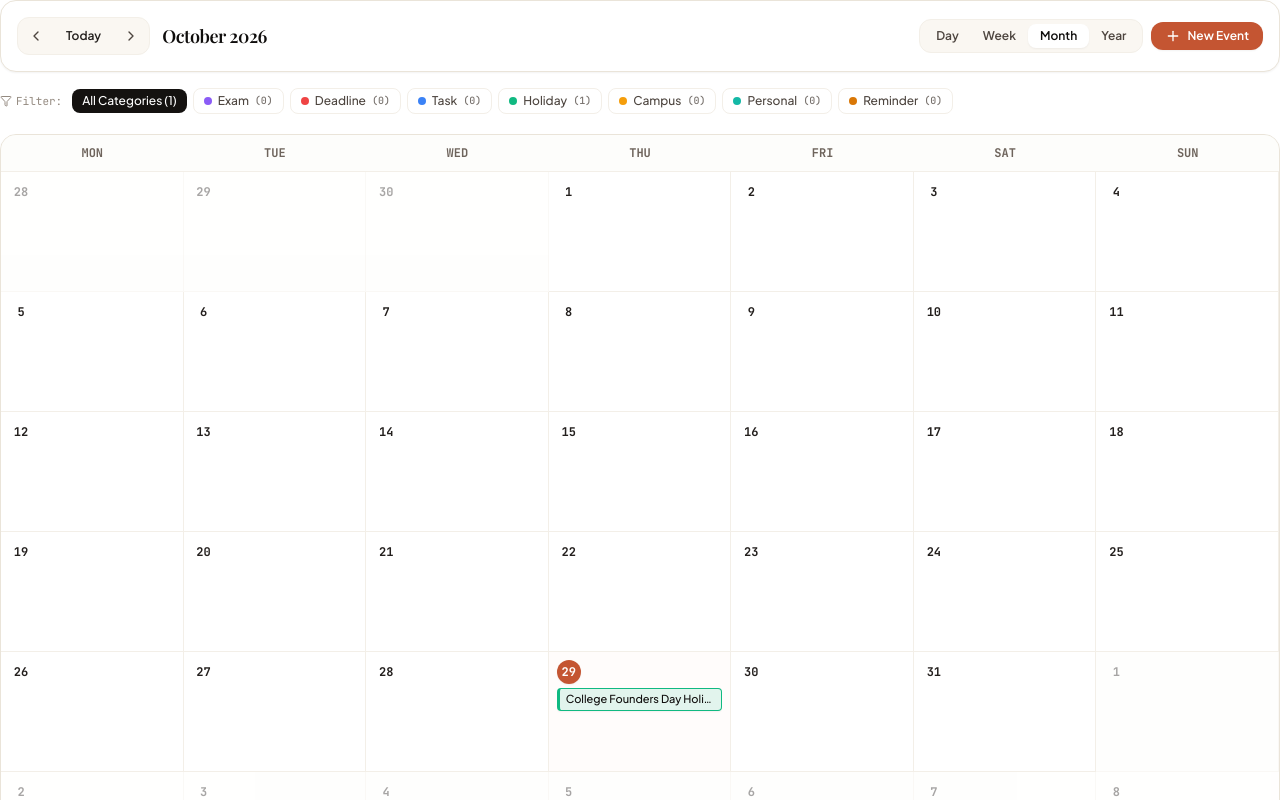
Phase 4E: Planner & Calendar UX Audit Regressions › renders all-day events and holidays in the dedicated all-day row in WeekView
Note: Switch to Week view
Click the button "week" at x=999, y=36, box [971,24,1028,48]
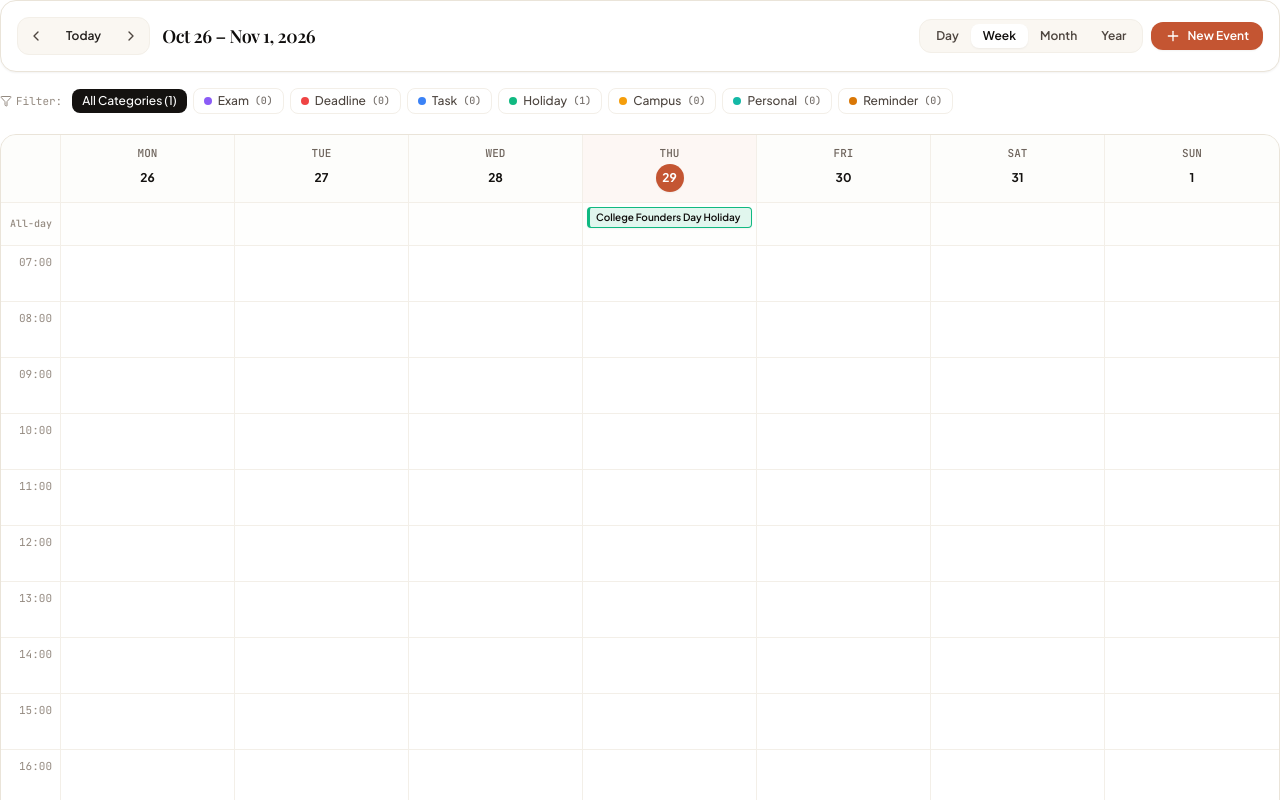
Expected: the text "College Founders Day Holiday" is shown, [596,210,740,222]
Result: the text "All-day" is shown at [1,202,61,244]
